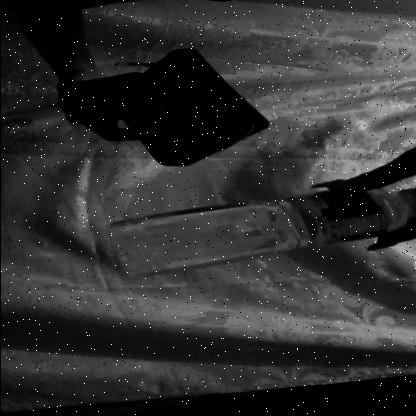Plastic Bottle: (100, 182, 412, 282)
